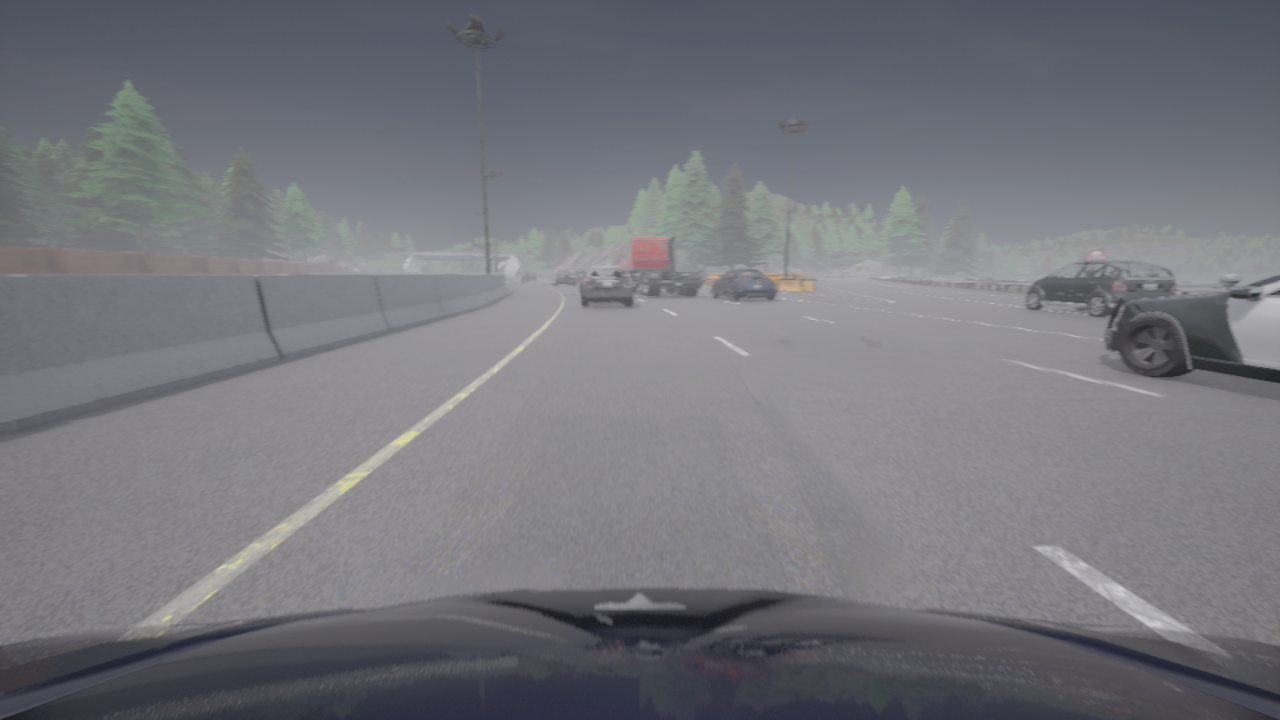cyclist: (0, 588, 1279, 719), (1103, 273, 1279, 383), (1025, 261, 1177, 317), (622, 236, 702, 296), (579, 266, 632, 307), (712, 270, 776, 300), (610, 246, 627, 273), (550, 270, 576, 286), (571, 268, 588, 283), (523, 271, 537, 281)
